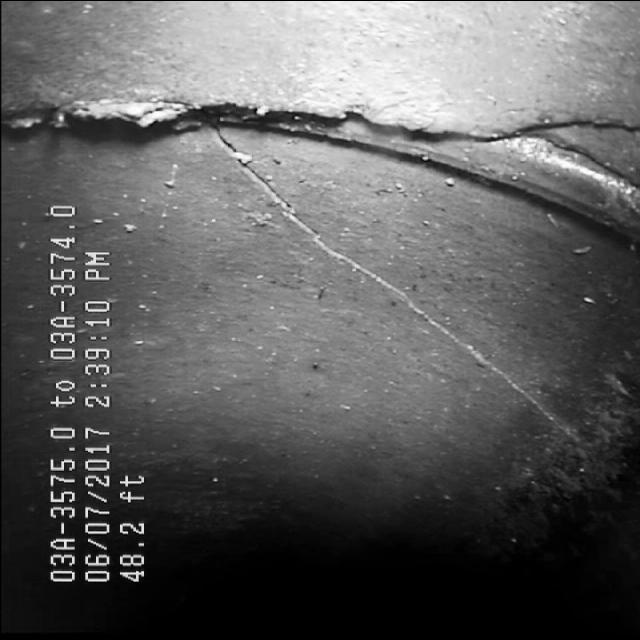Crack: (172, 144, 582, 374)
